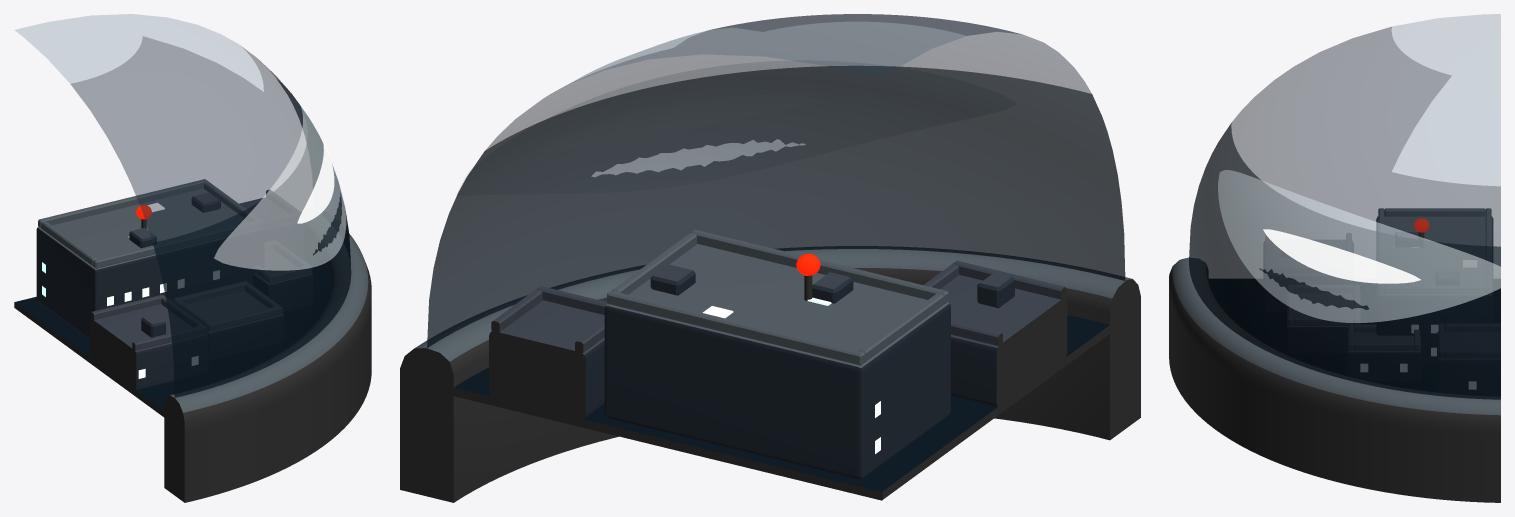
File: glass_city_br.glb
3 renders of one model, left to right at view 1: azimuth 30°, elevation 25°; view 2: azimuth 150°, elevation 25°; view 3: azimuth 270°, elevation 25°, orthographic. The views are drawn at different scales.
Visible parts, largest first — view 1: glassshell.001, collar.001, b7.001, glassshell_b_crescent.001, b12.001, floor.001, b13.001, b7_rim_n.001, b11.001, b7_rim_s.001, glassshell_c_core.001, b12_rim_s.001 (+9 smaller); view 2: glassshell.001, b7.001, collar.001, floor.001, b10.001, b12.001, glassshell_b_crescent.001, b7_rim_n.001, b7_rim_s.001, b7_rim_w.001, b7_rim_e.001, b12_rim_s.001 (+5 smaller); view 3: glassshell.001, collar.001, glassshell_b_crescent.001, b7.001, floor.001, glassshell_c_core.001, b10.001, b11.001, b13.001, b7_rim_w.001, b11_rim_e.001, b10_rim_w.001 (+2 smaller).
Part boxes in pixels (left/top/right/bottom): glassshell.001: left=15, top=14, right=351, bottom=397; collar.001: left=164, top=234, right=371, bottom=502; b7.001: left=36, top=188, right=254, bottom=339; glassshell_b_crescent.001: left=214, top=96, right=346, bottom=270; b12.001: left=90, top=304, right=208, bottom=390; floor.001: left=14, top=264, right=330, bottom=417; b13.001: left=188, top=290, right=283, bottom=360; b7_rim_n.001: left=38, top=179, right=207, bottom=227; b11.001: left=253, top=270, right=313, bottom=312; b7_rim_s.001: left=93, top=225, right=238, bottom=268; glassshell_c_core.001: left=297, top=139, right=334, bottom=223; b12_rim_s.001: left=132, top=325, right=206, bottom=350; glassshell.001: left=427, top=14, right=1125, bottom=347; b7.001: left=604, top=243, right=950, bottom=478; collar.001: left=400, top=246, right=1140, bottom=502; floor.001: left=453, top=315, right=1111, bottom=500; b10.001: left=489, top=300, right=604, bottom=419; b12.001: left=940, top=275, right=1067, bottom=406; glassshell_b_crescent.001: left=456, top=61, right=881, bottom=194; b7_rim_n.001: left=607, top=291, right=864, bottom=365; b7_rim_s.001: left=691, top=229, right=948, bottom=304; b7_rim_w.001: left=859, top=293, right=943, bottom=361; b7_rim_e.001: left=611, top=233, right=696, bottom=294; b12_rim_s.001: left=953, top=260, right=1065, bottom=300; glassshell.001: left=1189, top=14, right=1500, bottom=399; collar.001: left=1169, top=257, right=1500, bottom=502; glassshell_b_crescent.001: left=1218, top=170, right=1500, bottom=322; b7.001: left=1376, top=216, right=1493, bottom=366; floor.001: left=1209, top=279, right=1500, bottom=391; glassshell_c_core.001: left=1263, top=229, right=1420, bottom=283; b10.001: left=1437, top=332, right=1500, bottom=396; b11.001: left=1346, top=333, right=1421, bottom=382; b13.001: left=1286, top=305, right=1360, bottom=353; b7_rim_w.001: left=1384, top=208, right=1485, bottom=216; b11_rim_e.001: left=1354, top=342, right=1413, bottom=350; b10_rim_w.001: left=1445, top=323, right=1500, bottom=331.
Size of the model in its own units: 18.88 by 19.8 by 17.6.
